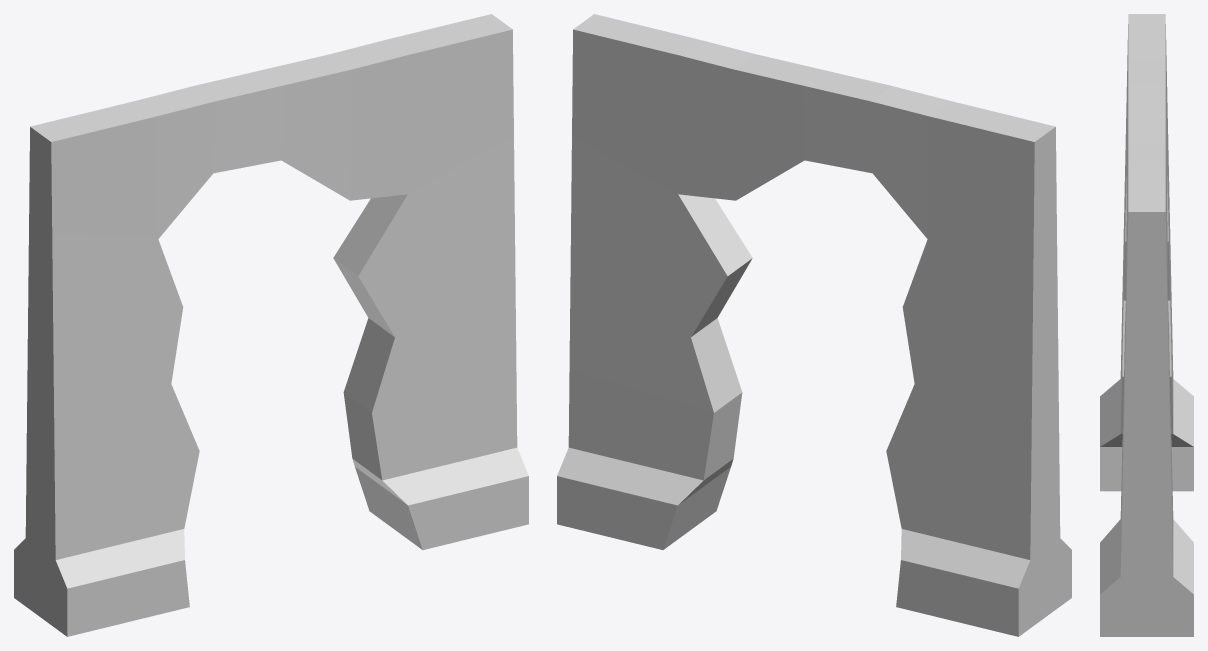
The model's file is wall_piece_broken.glb.
3 views of the same model, side by side, from view 1: azimuth 30°, elevation 25°; view 2: azimuth 150°, elevation 25°; view 3: azimuth 270°, elevation 25° (orthographic). The views are drawn at different scales.
Parts seen in each view (by area): view 1: WallPieceBroken; view 2: WallPieceBroken; view 3: WallPieceBroken.
Part boxes in pixels (bbox=[...]): WallPieceBroken: bbox=[14, 14, 528, 636]; WallPieceBroken: bbox=[557, 14, 1071, 636]; WallPieceBroken: bbox=[1100, 14, 1193, 636].
Size of the model in its own units: 5 by 5.01 by 1.
1 material, 1 textured.
